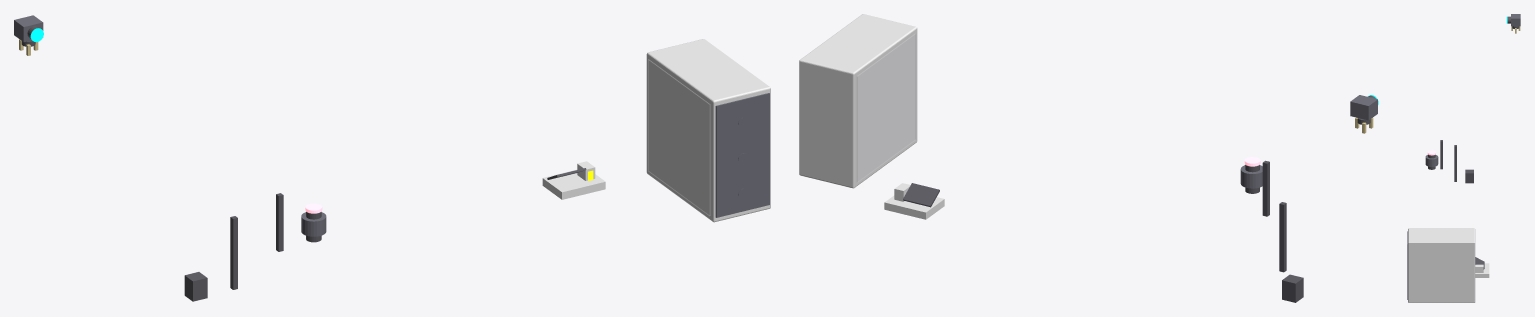
Rendered from on-demand-projects.b809c043.glb.
The picture shows the model from 3 angles, left to right: view 1: azimuth 30°, elevation 25°; view 2: azimuth 150°, elevation 25°; view 3: azimuth 270°, elevation 25°; orthographic projection. The views are drawn at different scales.
Parts seen in each view (by area): view 1: pc_chassis_frame, pc_glass_side_panel, pc_front_mesh, zenith_pedestal, mic_desk_clamp, mic_arm_lower, mic_shockmount; view 2: pc_chassis_frame, pc_glass_side_panel, zenith_pedestal, zenith_solar_panel, ai_cam_chassis, mic_arm_lower, mic_desk_clamp, mic_arm_upper, mic_shockmount; view 3: pc_chassis_frame, mic_shockmount, zenith_pedestal, mic_desk_clamp, ai_cam_chassis, mic_arm_lower.
Boxes of the visible parts, x1,y1,x2,y2 form: pc_chassis_frame: (646, 39, 770, 222); pc_glass_side_panel: (648, 59, 710, 215); pc_front_mesh: (715, 93, 769, 217); zenith_pedestal: (542, 169, 605, 199); mic_desk_clamp: (184, 272, 207, 301); mic_arm_lower: (230, 216, 237, 289); mic_shockmount: (301, 212, 326, 236); pc_chassis_frame: (799, 14, 917, 188); pc_glass_side_panel: (857, 33, 916, 182); zenith_pedestal: (884, 195, 944, 219); zenith_solar_panel: (903, 183, 939, 207); ai_cam_chassis: (1350, 95, 1377, 120); mic_arm_lower: (1279, 202, 1286, 272); mic_desk_clamp: (1282, 274, 1303, 302); mic_arm_upper: (1262, 160, 1269, 216); mic_shockmount: (1240, 165, 1262, 188); pc_chassis_frame: (1408, 228, 1475, 302); mic_shockmount: (1425, 155, 1438, 166); zenith_pedestal: (1475, 263, 1489, 277); mic_desk_clamp: (1465, 169, 1473, 183); ai_cam_chassis: (1511, 14, 1520, 26); mic_arm_lower: (1454, 145, 1456, 181).
Size of the model in its own units: 2.66 by 1.07 by 0.811.
